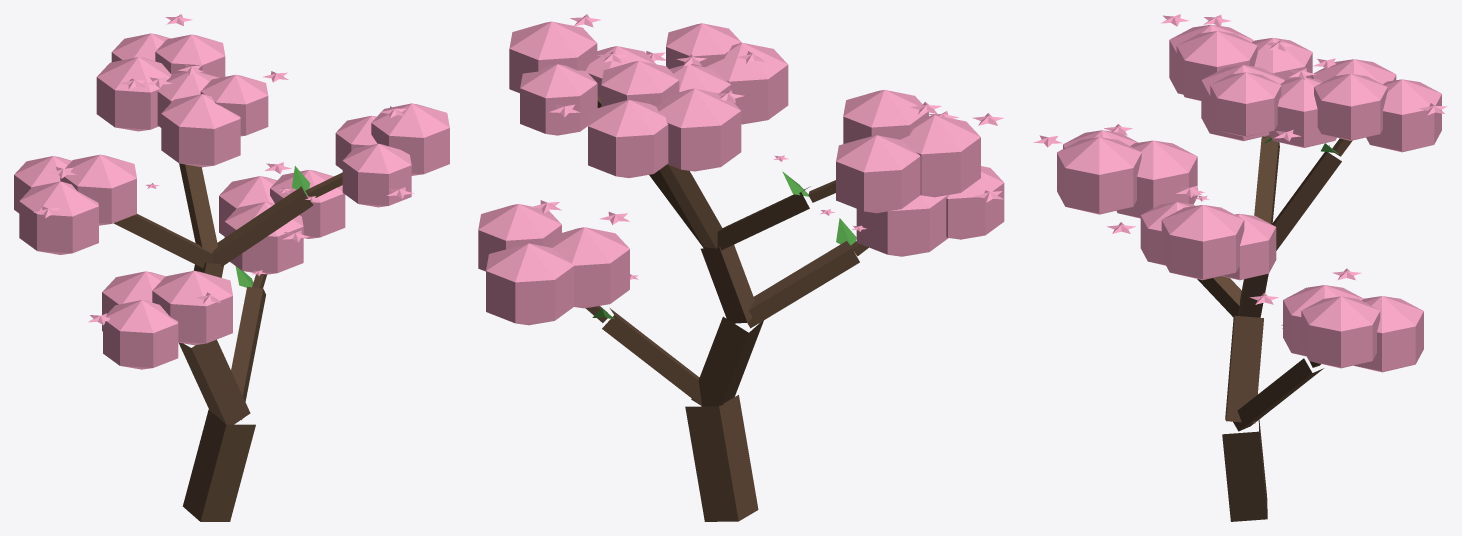
Rendered from viet_tree_dao.glb.
3 views of the same model, side by side, from view 1: azimuth 30°, elevation 25°; view 2: azimuth 150°, elevation 25°; view 3: azimuth 270°, elevation 25° (orthographic). The views are drawn at different scales.
Parts seen in each view (by area): view 1: viet_tree_dao; view 2: viet_tree_dao; view 3: viet_tree_dao.
Boxes of the visible parts, x1,y1,x2,y2 form: viet_tree_dao: (14, 14, 449, 521); viet_tree_dao: (478, 14, 1004, 521); viet_tree_dao: (1033, 14, 1447, 521).
Size of the model in its own units: 1 by 0.9907 by 0.8137.
